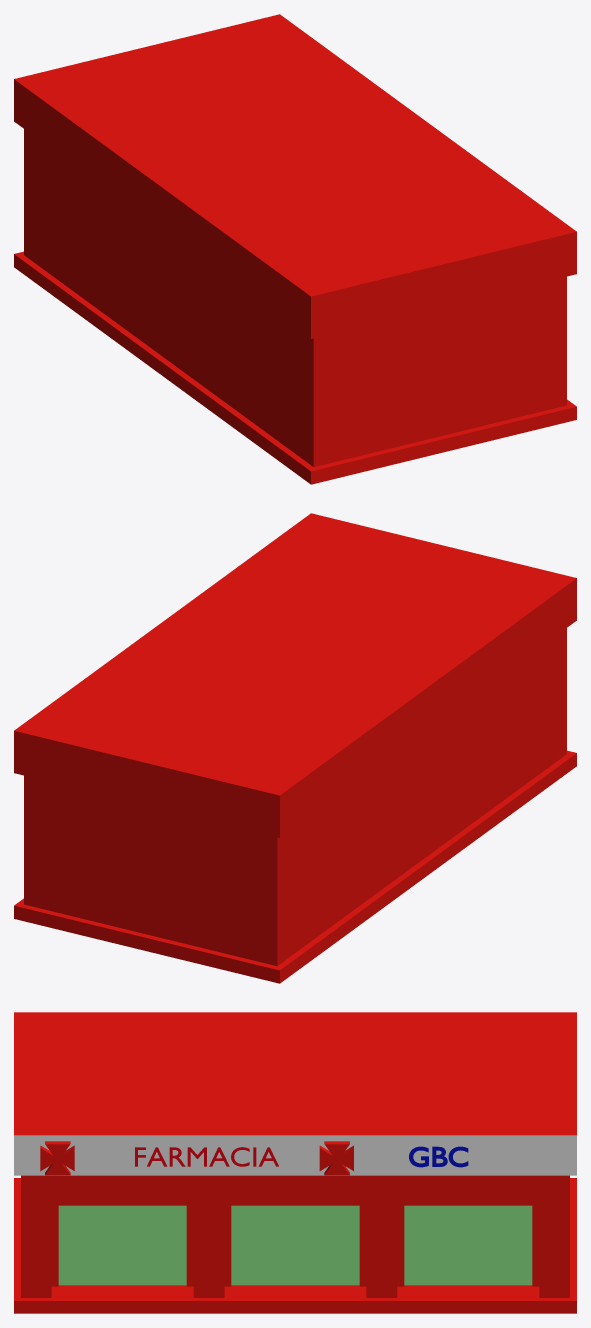
File: FARMACIA.fbx
The picture shows the model from 3 angles, top to bottom: view 1: azimuth 30°, elevation 25°; view 2: azimuth 150°, elevation 25°; view 3: azimuth 270°, elevation 25°; orthographic projection. The views are drawn at different scales.
Parts seen in each view (by area): view 1: building_001; view 2: building_001; view 3: building_001, Text.001, Cube.001, Cube, Text.
Part boxes in pixels (left/top/right/bottom): building_001: left=14, top=14, right=576, bottom=484; building_001: left=14, top=513, right=576, bottom=983; building_001: left=14, top=1012, right=576, bottom=1313; Text.001: left=135, top=1147, right=278, bottom=1166; Cube.001: left=319, top=1141, right=353, bottom=1175; Cube: left=40, top=1141, right=74, bottom=1175; Text: left=409, top=1146, right=468, bottom=1167.
Size of the model in its own units: 430 by 284 by 813.
